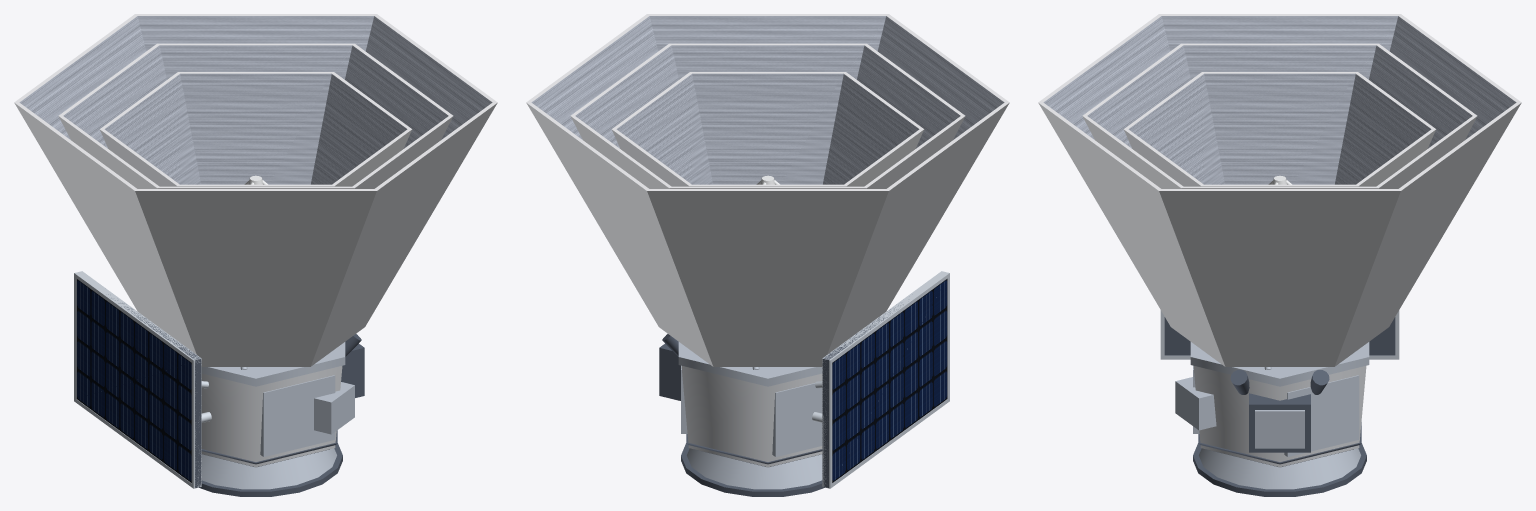
The model's file is spherex-observatory.glb.
The picture shows the model from 3 angles, left to right: view 1: azimuth 30°, elevation 25°; view 2: azimuth 150°, elevation 25°; view 3: azimuth 270°, elevation 25°; orthographic projection.
Visible parts, largest first — view 1: Photon_Shield_Outer_Exterior, Photon_Shield_Inner_Interior, Photon_Shield_Outer_Interior, Solar_Cells_Plate, Photon_Shield_Middle_Interior, Bus_Hex_Body, Bus_Silver_Panel_1, Base_Adapter_Cone, Photon_Shield_Outer_Rim, Photon_Shield_Middle_Exterior, Photon_Shield_Middle_Rim, Photon_Shield_Inner_Rim (+9 smaller); view 2: Photon_Shield_Outer_Exterior, Photon_Shield_Inner_Interior, Photon_Shield_Outer_Interior, Solar_Cells_Plate, Photon_Shield_Middle_Interior, Bus_Hex_Body, Base_Adapter_Cone, Photon_Shield_Outer_Rim, Bus_Silver_Panel_3, Photon_Shield_Middle_Exterior, Photon_Shield_Middle_Rim, Photon_Shield_Inner_Rim (+8 smaller); view 3: Photon_Shield_Outer_Exterior, Photon_Shield_Inner_Interior, Photon_Shield_Outer_Interior, Photon_Shield_Middle_Interior, Bus_Hex_Body, Base_Adapter_Cone, Bus_Silver_Panel_2, Photon_Shield_Outer_Rim, Photon_Shield_Middle_Exterior, Photon_Shield_Middle_Rim, Bus_Top_Deck, Photon_Shield_Inner_Rim (+7 smaller).
Boxes of the visible parts, x1,y1,x2,y2 form: Photon_Shield_Outer_Exterior: (14, 103, 497, 366); Photon_Shield_Inner_Interior: (104, 73, 407, 184); Photon_Shield_Outer_Interior: (19, 16, 492, 139); Solar_Cells_Plate: (76, 279, 191, 482); Photon_Shield_Middle_Interior: (63, 45, 448, 148); Bus_Hex_Body: (201, 366, 342, 467); Bus_Silver_Panel_1: (260, 375, 335, 456); Base_Adapter_Cone: (201, 448, 336, 489); Photon_Shield_Outer_Rim: (14, 14, 497, 190); Photon_Shield_Middle_Exterior: (58, 116, 453, 188); Photon_Shield_Middle_Rim: (58, 43, 453, 188); Photon_Shield_Inner_Rim: (100, 72, 411, 186); Photon_Shield_Outer_Exterior: (526, 103, 1009, 366); Photon_Shield_Inner_Interior: (616, 73, 919, 184); Photon_Shield_Outer_Interior: (531, 16, 1004, 139); Solar_Cells_Plate: (832, 279, 947, 482); Photon_Shield_Middle_Interior: (575, 45, 960, 148); Bus_Hex_Body: (681, 366, 822, 467); Base_Adapter_Cone: (687, 448, 822, 489); Photon_Shield_Outer_Rim: (526, 14, 1009, 190); Bus_Silver_Panel_3: (772, 383, 822, 456); Photon_Shield_Middle_Exterior: (570, 116, 965, 188); Photon_Shield_Middle_Rim: (570, 43, 965, 188); Photon_Shield_Inner_Rim: (612, 72, 923, 186); Photon_Shield_Outer_Exterior: (1038, 103, 1521, 366); Photon_Shield_Inner_Interior: (1128, 73, 1431, 184); Photon_Shield_Outer_Interior: (1043, 16, 1516, 139); Photon_Shield_Middle_Interior: (1087, 45, 1472, 148); Bus_Hex_Body: (1193, 366, 1366, 467); Base_Adapter_Cone: (1199, 448, 1360, 489); Bus_Silver_Panel_2: (1284, 375, 1359, 456); Photon_Shield_Outer_Rim: (1038, 14, 1521, 190); Photon_Shield_Middle_Exterior: (1082, 116, 1477, 188); Photon_Shield_Middle_Rim: (1082, 43, 1477, 188); Bus_Top_Deck: (1190, 342, 1369, 386); Photon_Shield_Inner_Rim: (1124, 72, 1435, 186).
Size of the model in its own units: 2.84 by 2.76 by 3.28.
10 materials, 3 textured.
